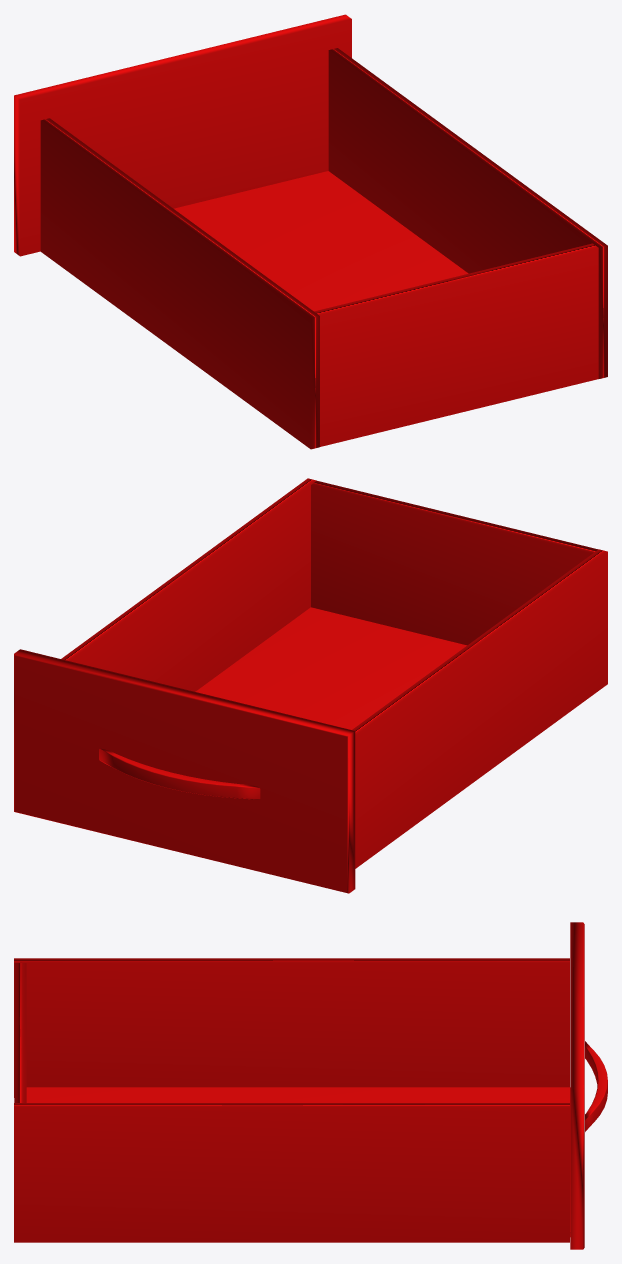
Rendered from Table_1_1.fbx.
The picture shows the model from 3 angles, top to bottom: view 1: azimuth 30°, elevation 25°; view 2: azimuth 150°, elevation 25°; view 3: azimuth 270°, elevation 25°; orthographic projection. The views are drawn at different scales.
Parts seen in each view (by area): view 1: L17:pCube45; view 2: L17:pCube45; view 3: L17:pCube45.
Boxes of the visible parts, x1,y1,x2,y2 form: L17:pCube45: (14, 14, 607, 449); L17:pCube45: (14, 478, 607, 893); L17:pCube45: (14, 922, 607, 1249).
Bounding box in the file's own units: 27.59 × 12.44 × 41.59.
